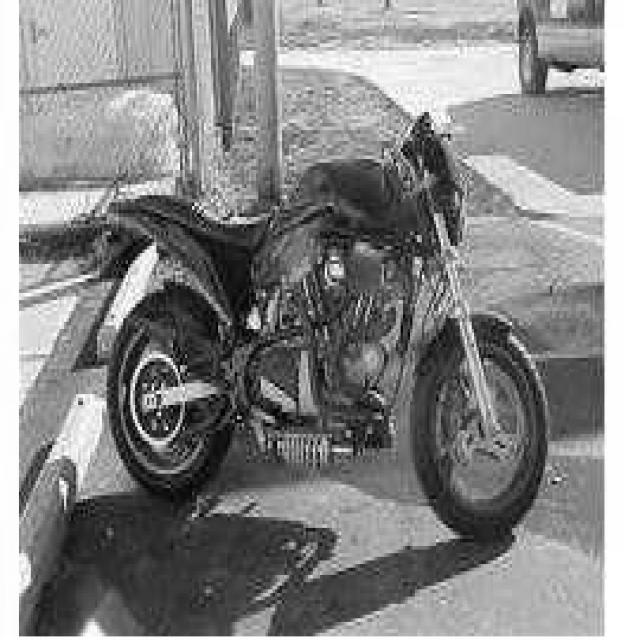Motorcycle: (98, 114, 548, 535)
